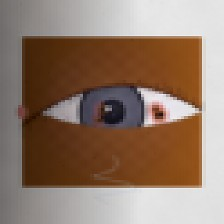foreign_body_visible: (145, 101, 166, 117)
